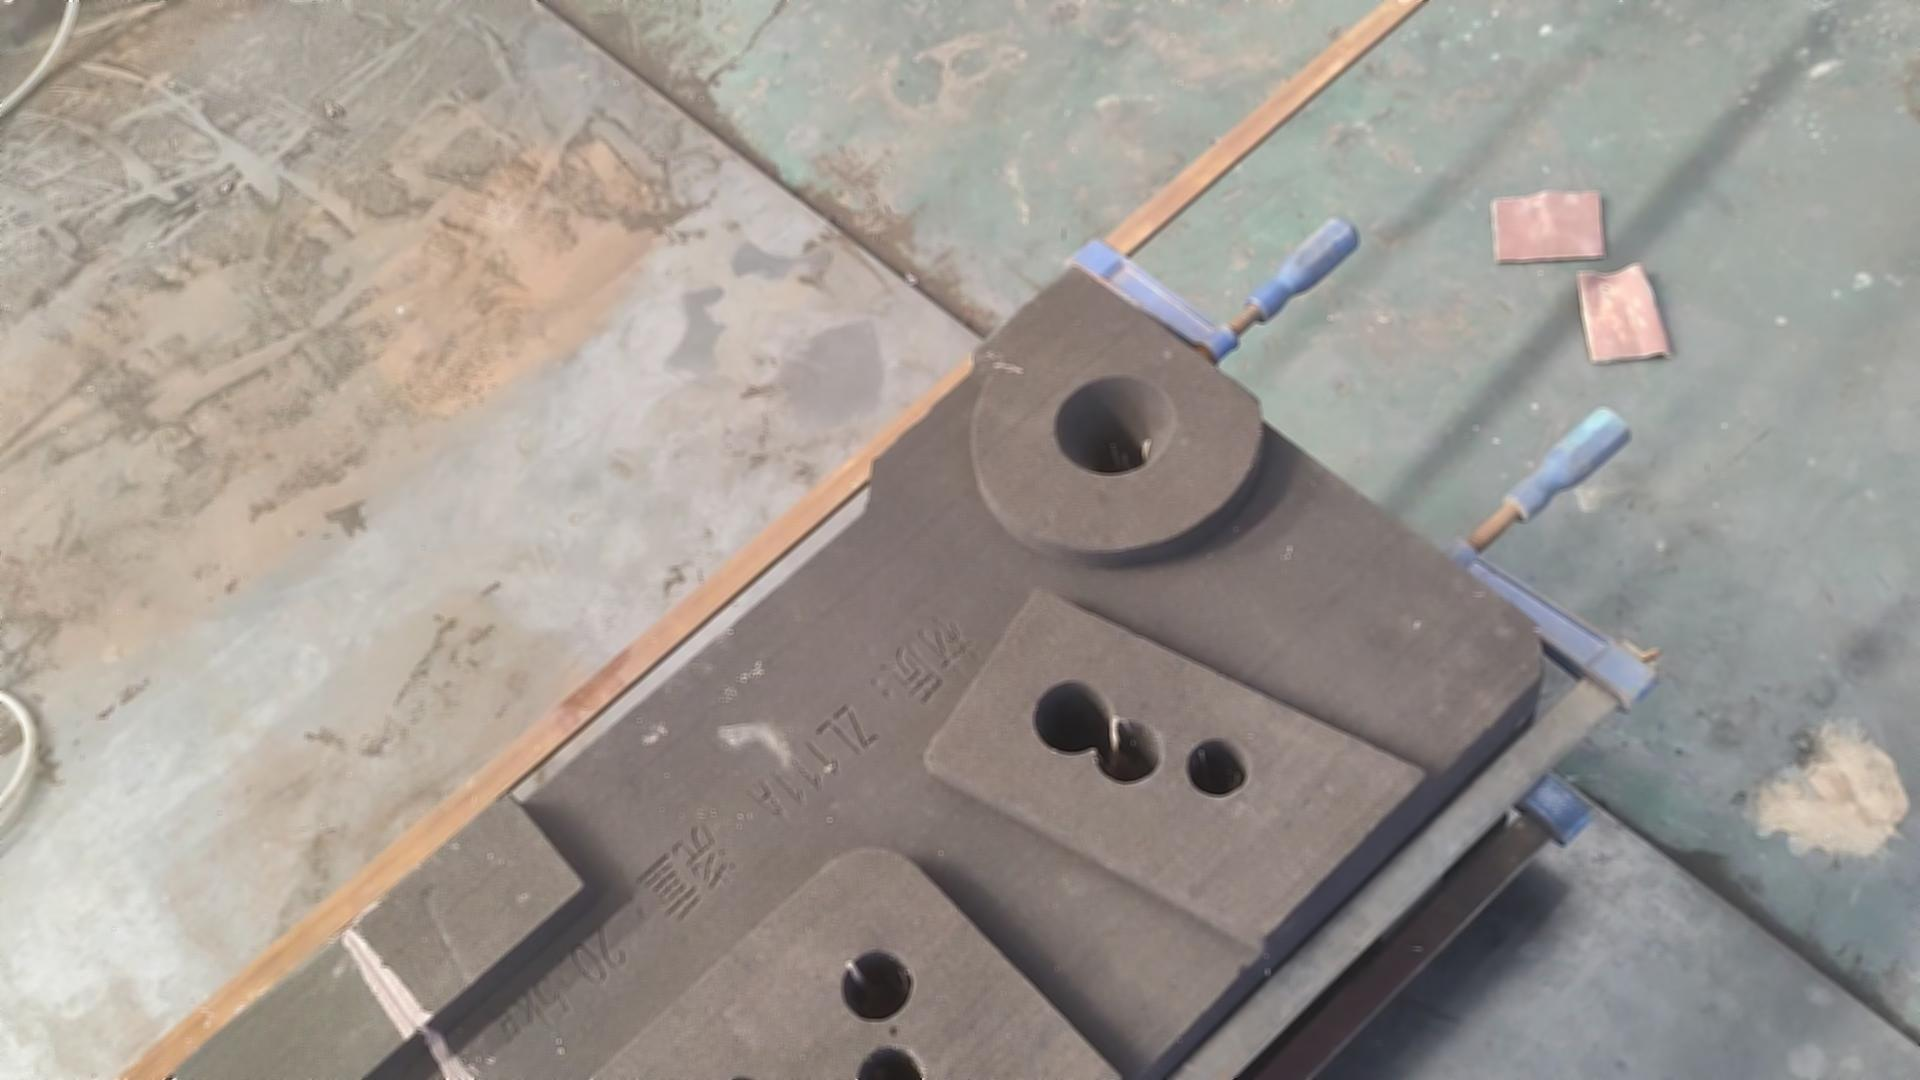pouring hole: (1051, 375, 1178, 477)
